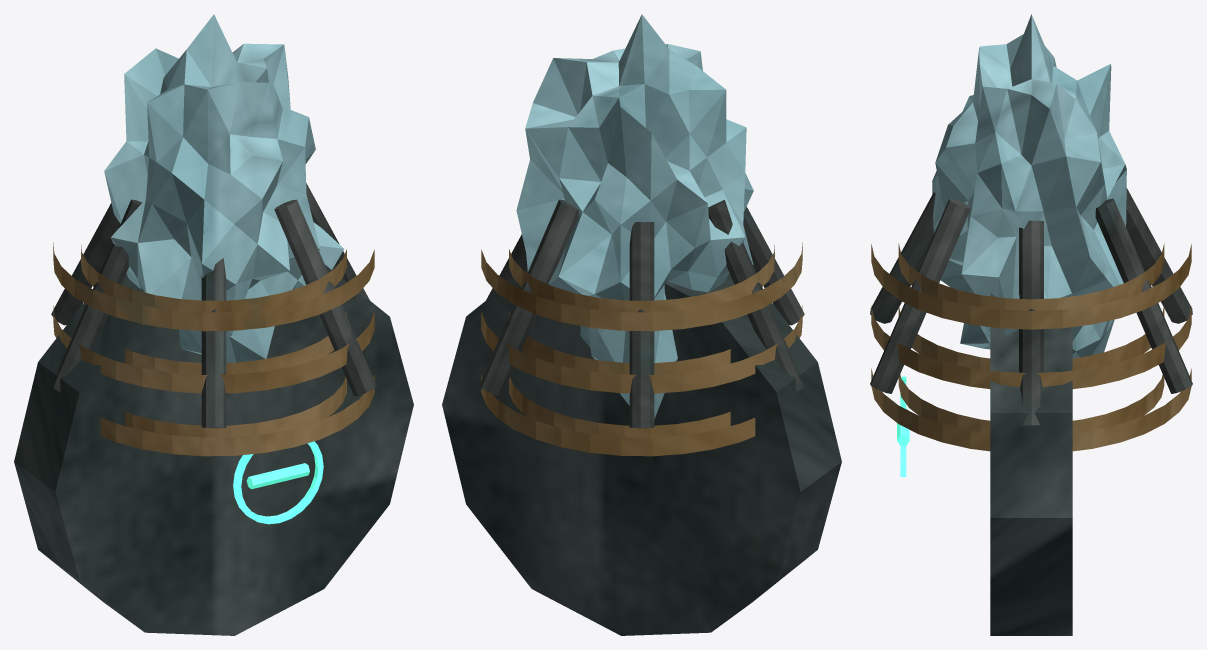
File: 0980_offering_relic_05.glb
The picture shows the model from 3 angles, left to right: view 1: azimuth 30°, elevation 25°; view 2: azimuth 150°, elevation 25°; view 3: azimuth 270°, elevation 25°; orthographic projection.
Visible parts, largest first — view 1: stone_dark, ice, brass, iron, glow; view 2: stone_dark, ice, brass, iron; view 3: ice, brass, stone_dark, iron, glow.
Part boxes in pixels (x1=…): stone_dark: x1=14, y1=265, x2=413, y2=635; ice: x1=104, y1=14, x2=343, y2=362; brass: x1=53, y1=242, x2=374, y2=456; iron: x1=51, y1=183, x2=376, y2=428; glow: x1=233, y1=441, x2=323, y2=524; stone_dark: x1=442, y1=268, x2=841, y2=635; ice: x1=516, y1=14, x2=753, y2=419; brass: x1=481, y1=242, x2=802, y2=456; iron: x1=479, y1=199, x2=804, y2=428; ice: x1=932, y1=14, x2=1126, y2=358; brass: x1=871, y1=243, x2=1191, y2=451; stone_dark: x1=990, y1=292, x2=1072, y2=635; iron: x1=870, y1=188, x2=1192, y2=425; glow: x1=897, y1=376, x2=909, y2=476.
Size of the model in its own units: 0.9 by 1.46 by 0.7056.
5 materials, 5 textured.
